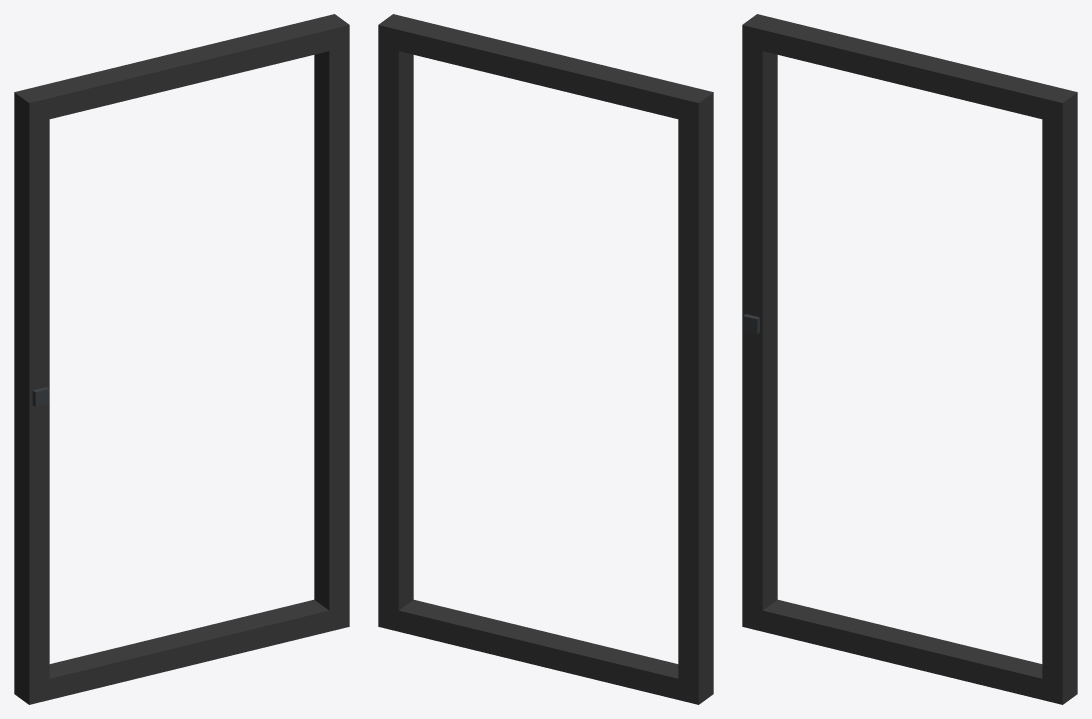
Rendered from Window6_03_2.fbx.
3 views of the same model, side by side, from view 1: azimuth 30°, elevation 25°; view 2: azimuth 150°, elevation 25°; view 3: azimuth 330°, elevation 25° (orthographic).
Visible parts, largest first — view 1: Window6_03_2; view 2: Window6_03_2; view 3: Window6_03_2.
Part boxes in pixels (box(x1,y1,x2,y2)): Window6_03_2: box(14, 14, 349, 704); Window6_03_2: box(378, 14, 713, 704); Window6_03_2: box(742, 14, 1077, 704).
Bounding box in the file's own units: 63.37 × 114 × 6.05.
